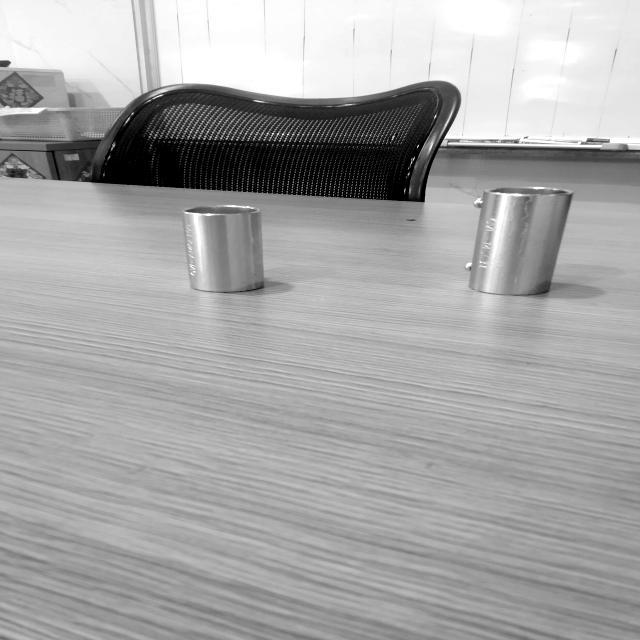Co_Lon: (460, 172, 576, 305)
Co_Nho: (182, 203, 265, 295)
